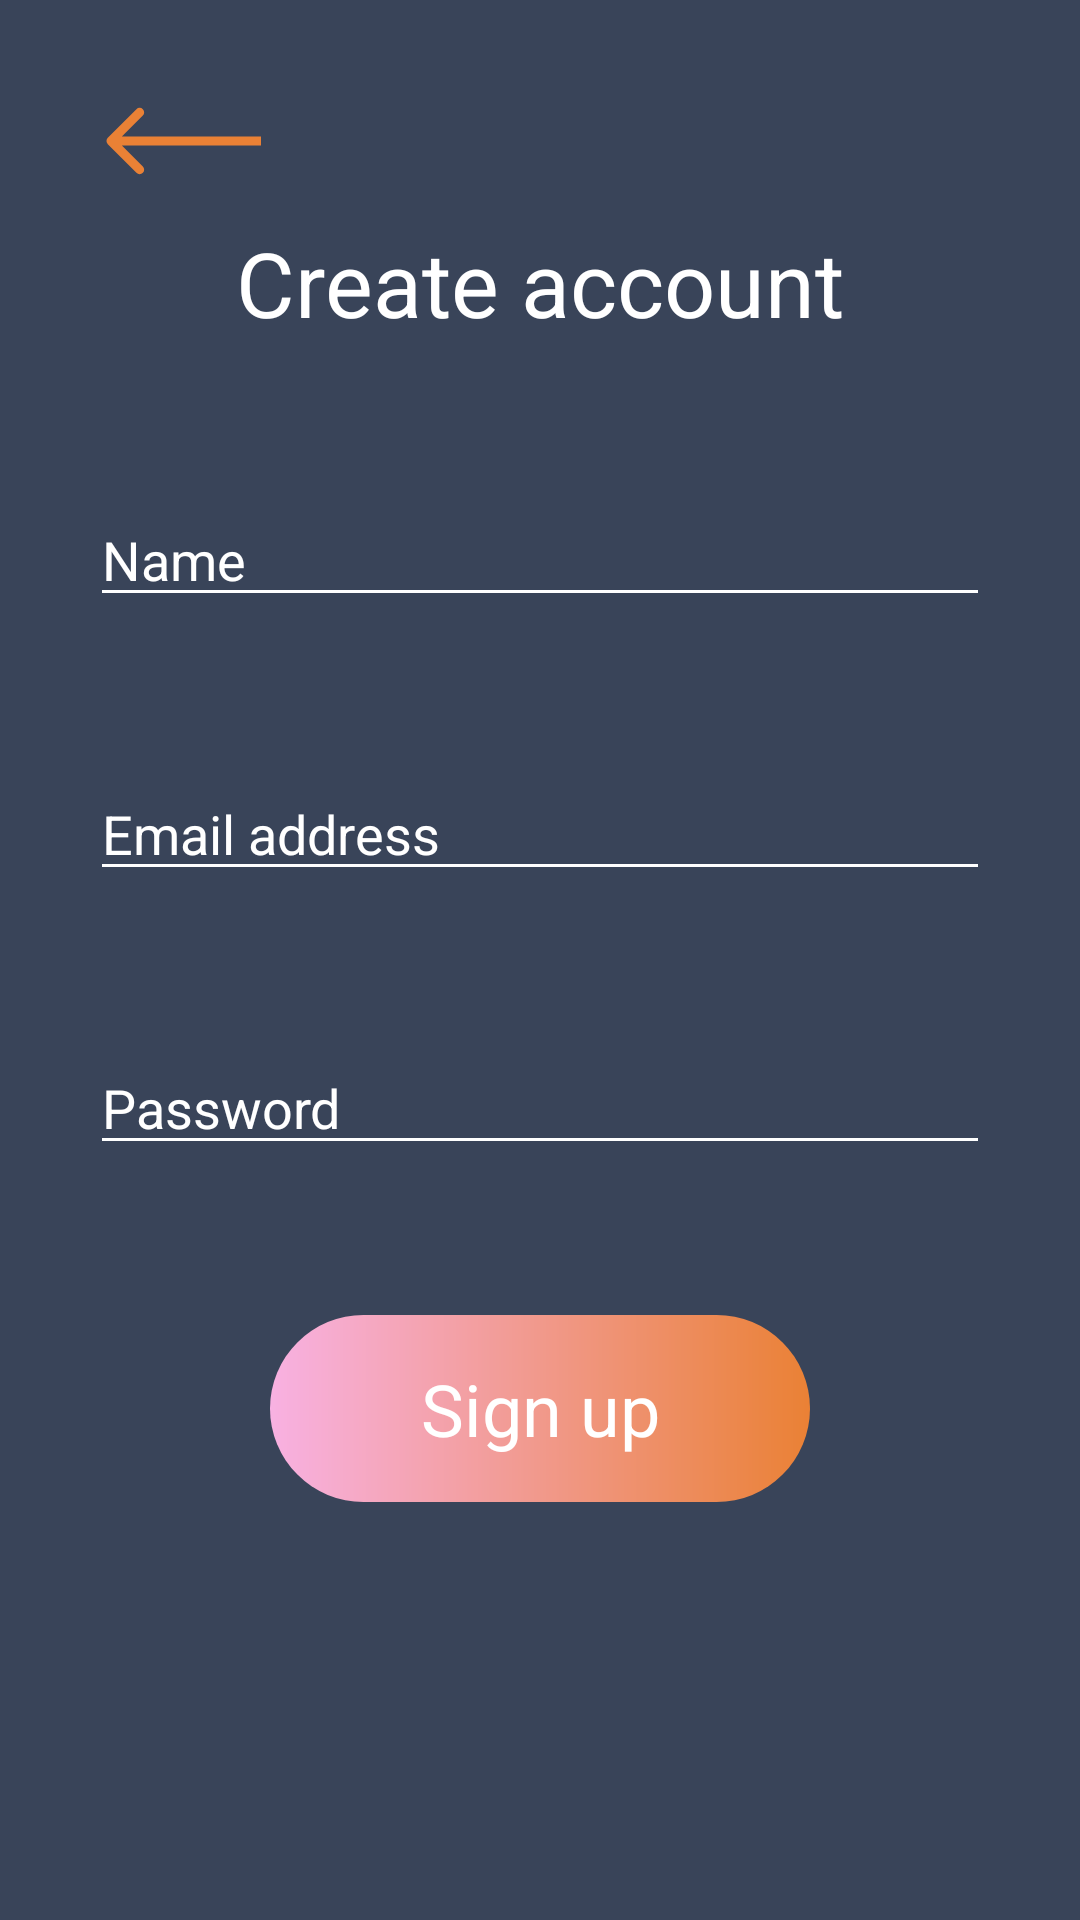

Screen size 1080×1920. Icon name, then its box in pixels as (x1, y1, x2, y2):
arrow left: (106, 107, 261, 175)
